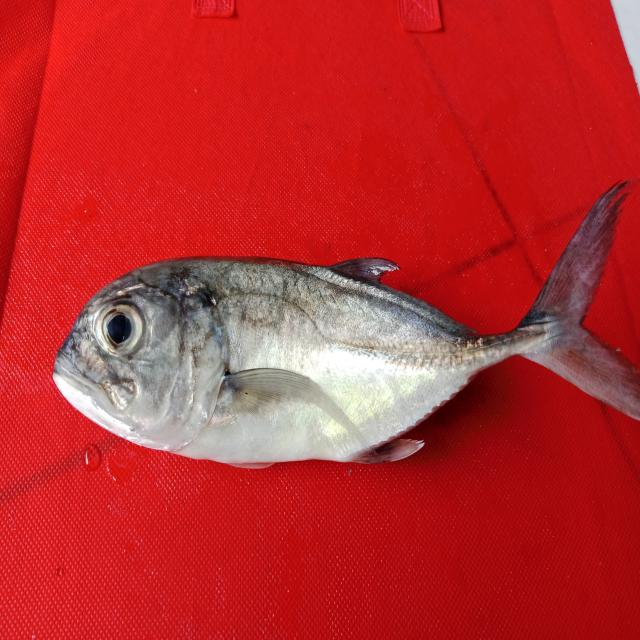ikan: (39, 208, 617, 494)
